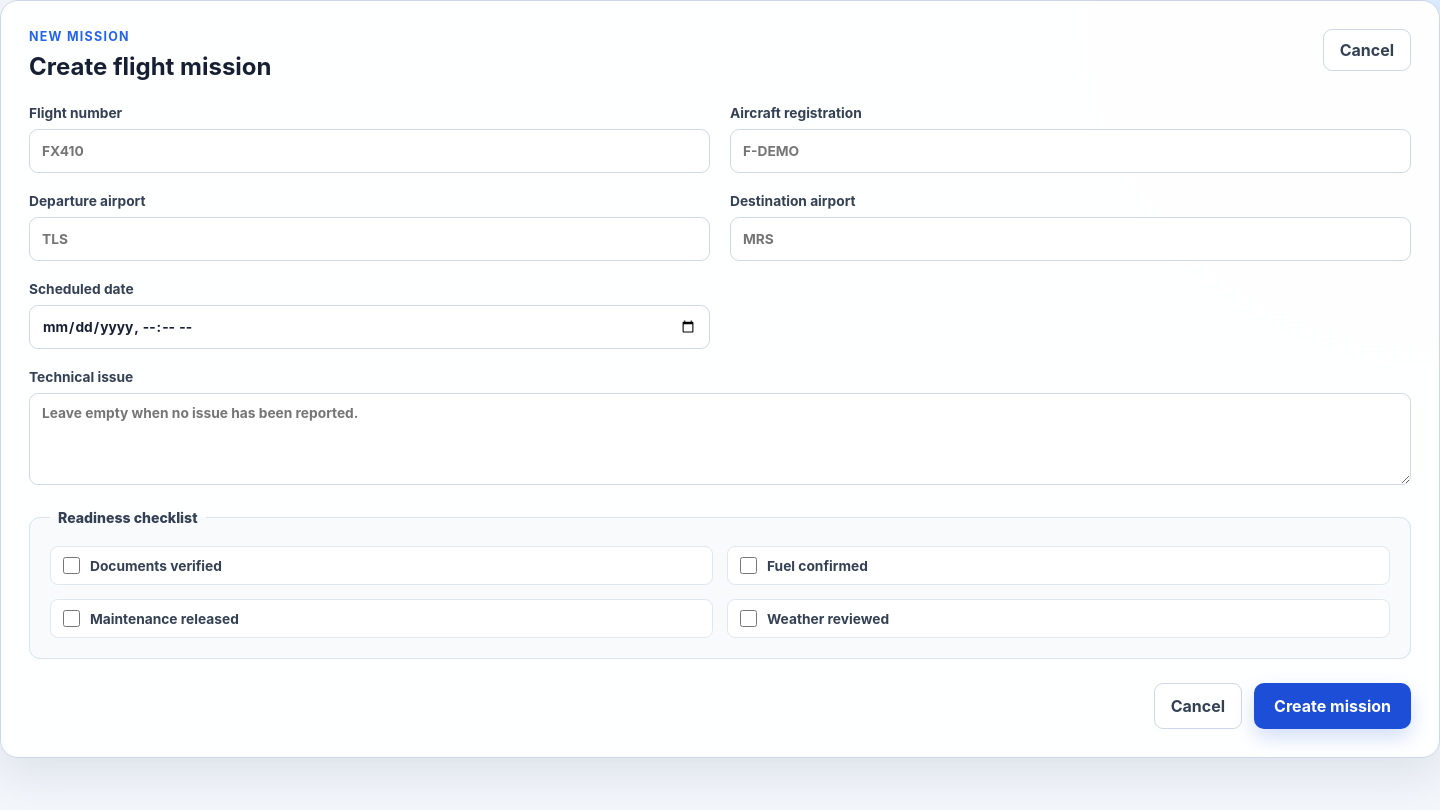
Scenario: MissionForm › displays an error when required fields are empty
This screenshot has width=1440, height=810.
Click the button "Create mission".
click(1333, 706)  # box [1254,683,1411,729]
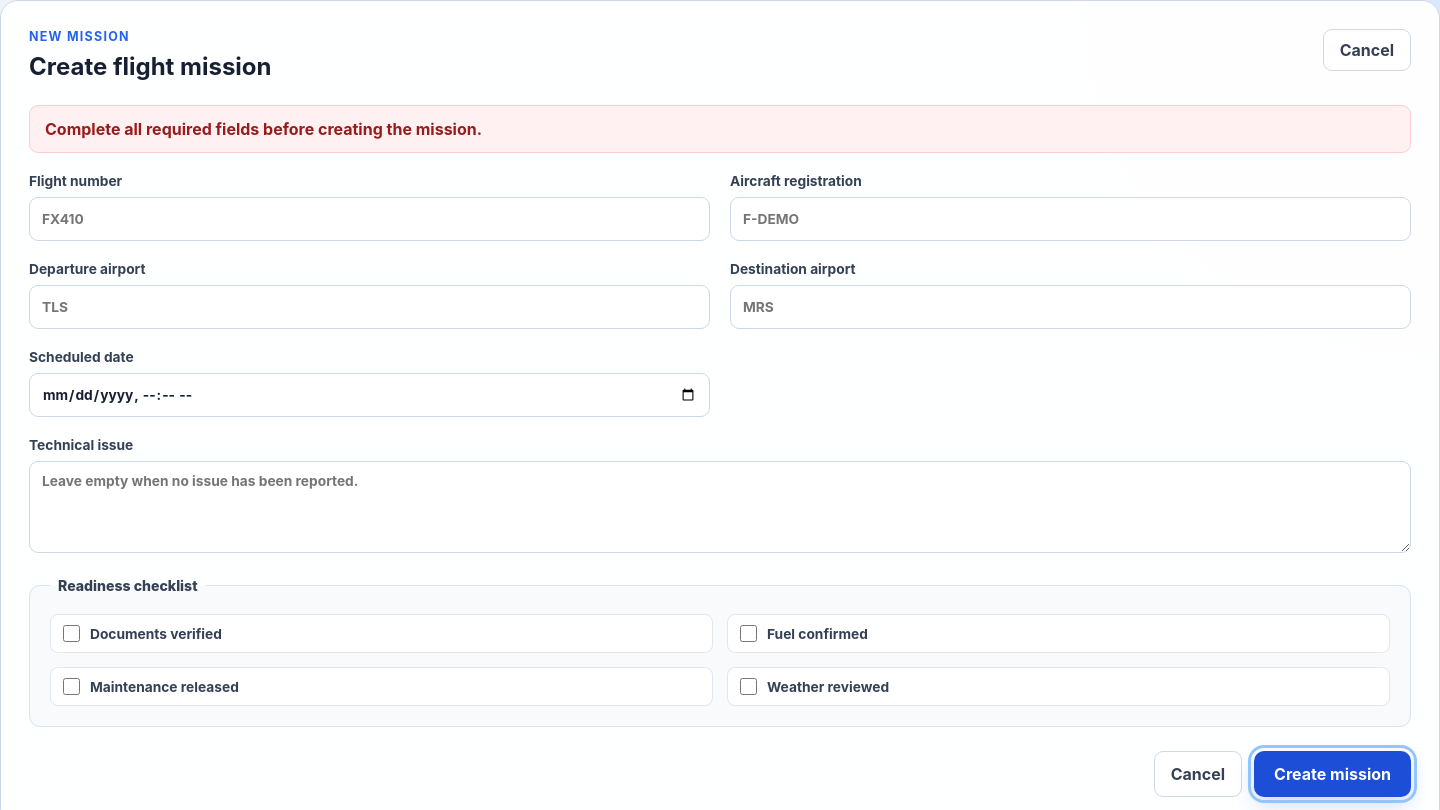
Result: the message shows "Complete all required fields" at [45,119,482,139]
